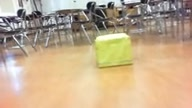cube: (95, 33, 131, 68)
